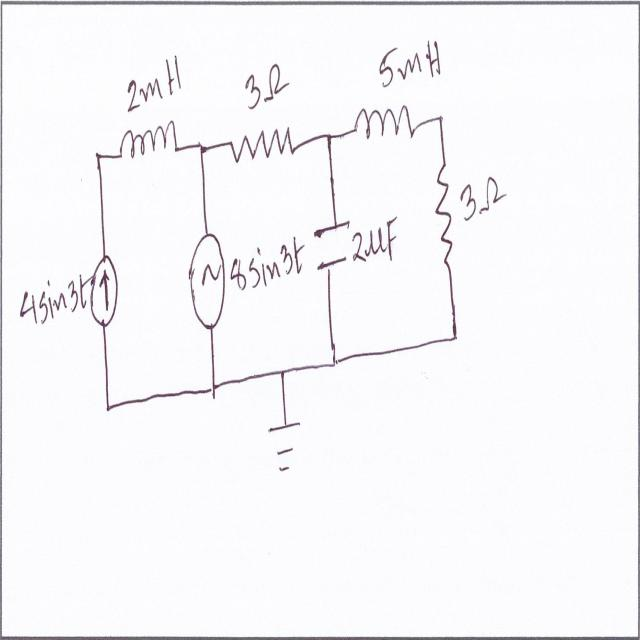ac_current: (189, 227, 228, 337)
capacitor: (309, 212, 352, 281)
current_source: (87, 252, 119, 334)
ground: (267, 406, 308, 491)
inductor: (116, 116, 183, 174), (352, 100, 417, 156)
resistor: (226, 125, 299, 173), (430, 158, 457, 268)
